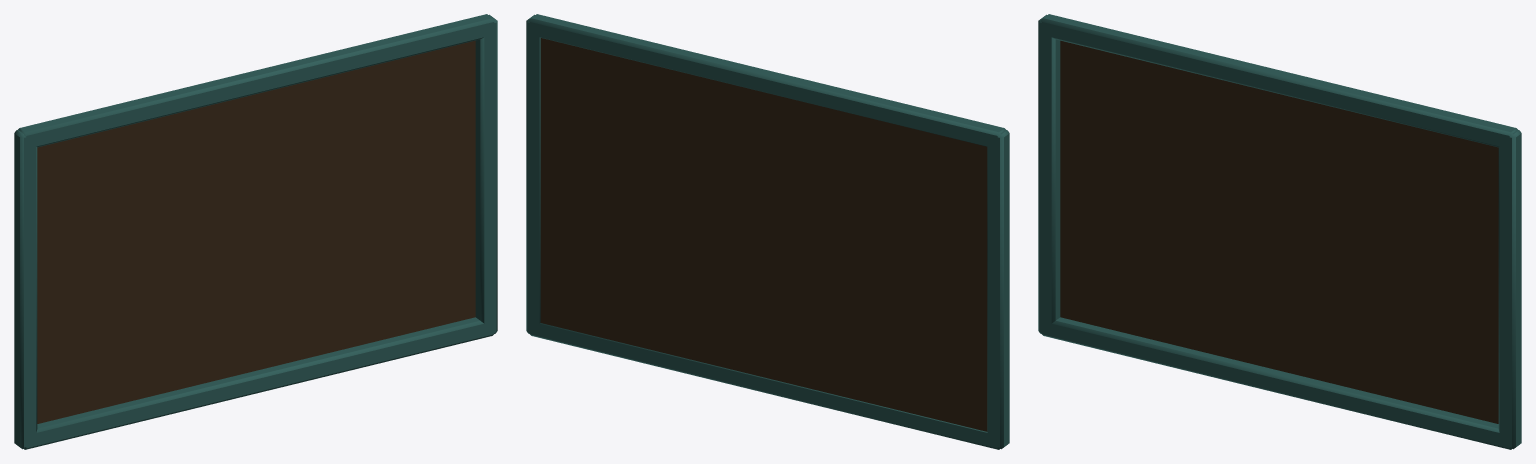
The model's file is noticeboard.glb.
The picture shows the model from 3 angles, left to right: view 1: azimuth 30°, elevation 25°; view 2: azimuth 150°, elevation 25°; view 3: azimuth 330°, elevation 25°; orthographic projection.
Parts seen in each view (by area): view 1: noticeboard; view 2: noticeboard; view 3: noticeboard.
Part boxes in pixels (bbox=[...]): noticeboard: bbox=[14, 14, 497, 449]; noticeboard: bbox=[526, 14, 1009, 449]; noticeboard: bbox=[1038, 14, 1521, 449].
Bounding box in the file's own units: 3.84 × 2.44 × 0.12.
